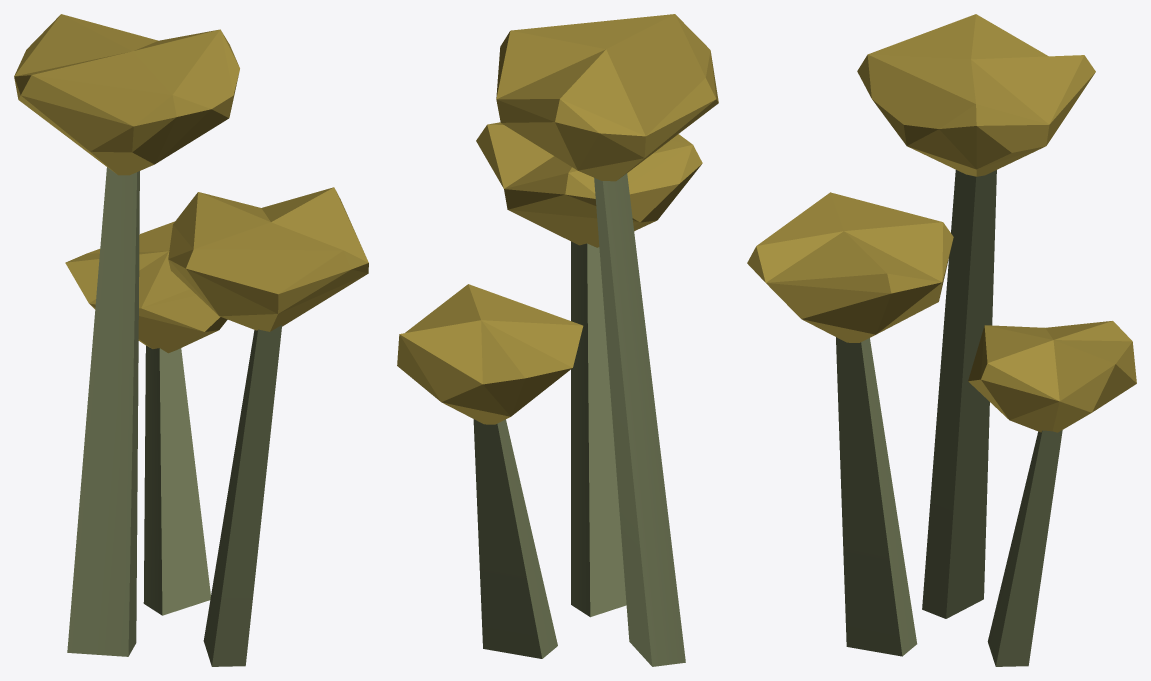
Rendered from SM_Env_Flowers_01.glb.
3 renders of one model, left to right at view 1: azimuth 30°, elevation 25°; view 2: azimuth 150°, elevation 25°; view 3: azimuth 270°, elevation 25°, orthographic. The views are drawn at different scales.
Parts seen in each view (by area): view 1: SM_Env_Flowers_01; view 2: SM_Env_Flowers_01; view 3: SM_Env_Flowers_01.
Boxes of the visible parts, box(x1,y1,x2,y2) form: SM_Env_Flowers_01: box(14, 14, 368, 666); SM_Env_Flowers_01: box(397, 14, 718, 666); SM_Env_Flowers_01: box(747, 14, 1136, 666).
Size of the model in its own units: 0.003 by 0.00602 by 0.00377.
1 material, 1 textured.
